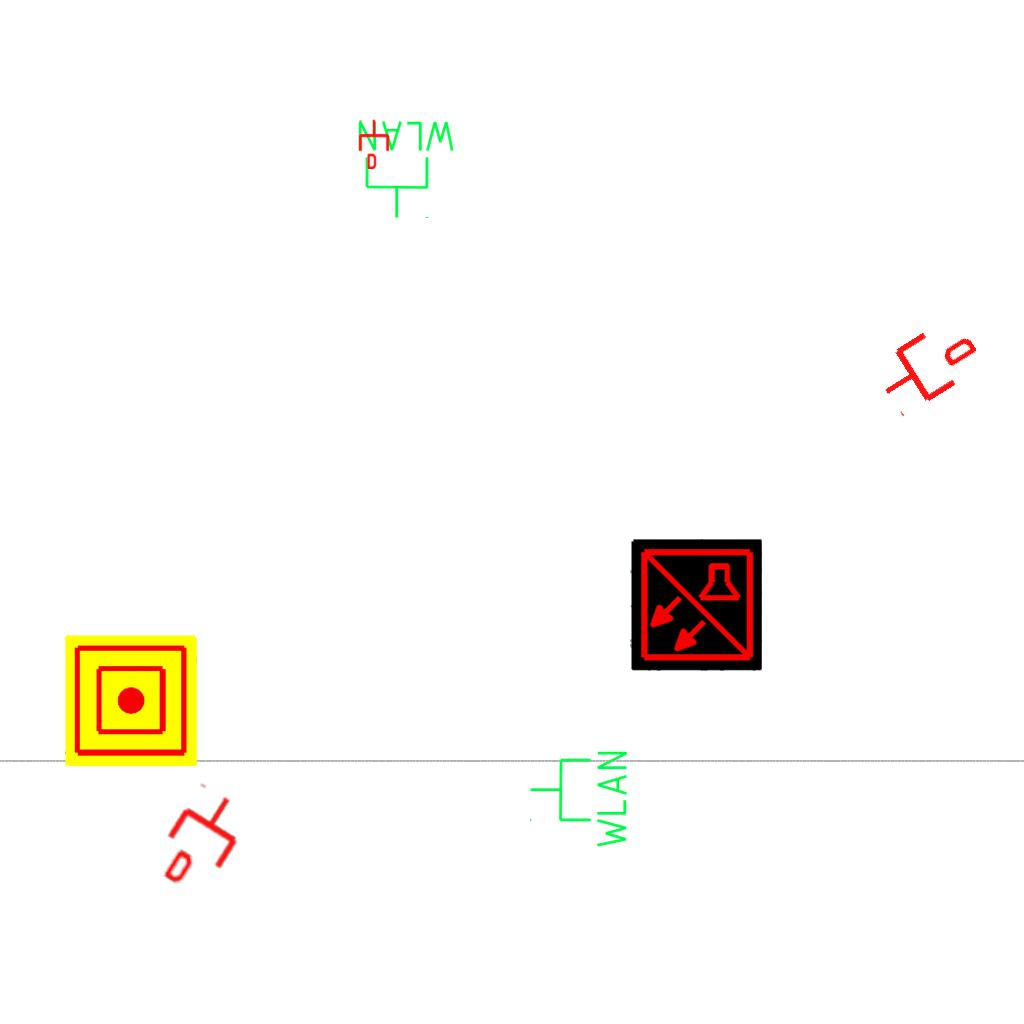Datenanschluss_einfach: (145, 779, 258, 901), (866, 310, 989, 422), (357, 119, 391, 169)
NAM-Nichtautomatischer_Melder: (65, 635, 197, 767)
OKW_Multisensormelder_(Kombination_optischer_Rauch-Kahlenmonoxid_Waerme-Melder): (630, 539, 762, 671)
WLAN: (527, 747, 631, 852), (354, 117, 459, 221)
